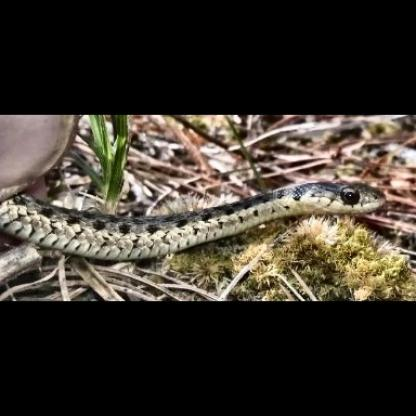Snake: (6, 178, 386, 276)
